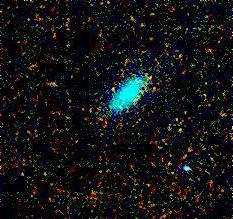star: (95, 73, 125, 103)
